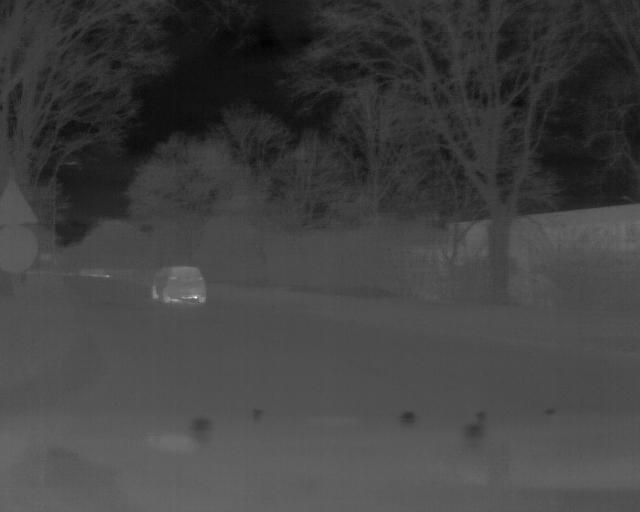car: (150, 264, 209, 308)
